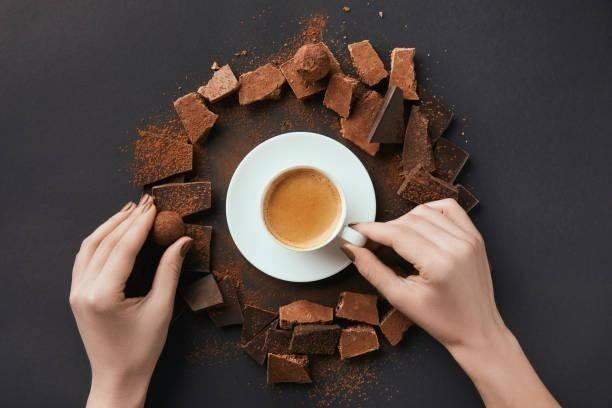cup-handle: (258, 163, 368, 256)
